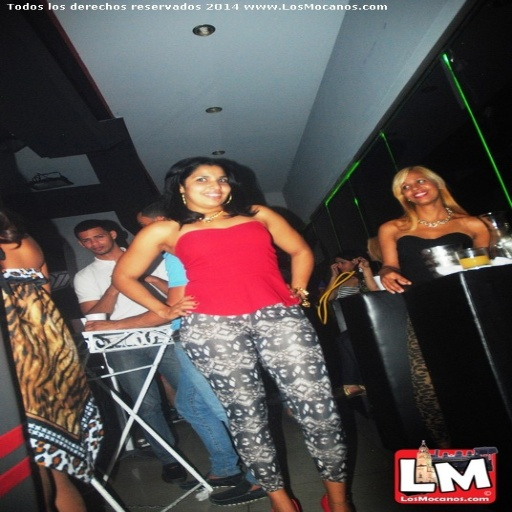hand: (379, 271, 414, 296), (166, 293, 198, 320), (79, 318, 116, 332), (286, 285, 306, 307), (352, 256, 372, 269), (332, 263, 339, 274)
